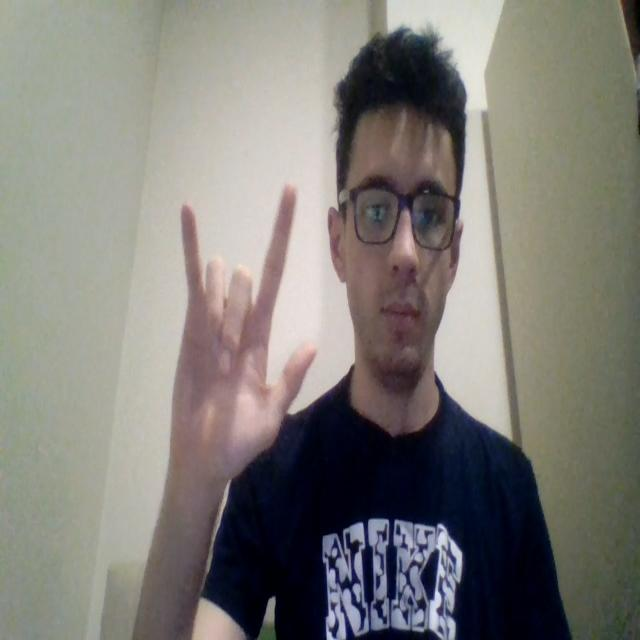iloveyou: (168, 182, 318, 486)
